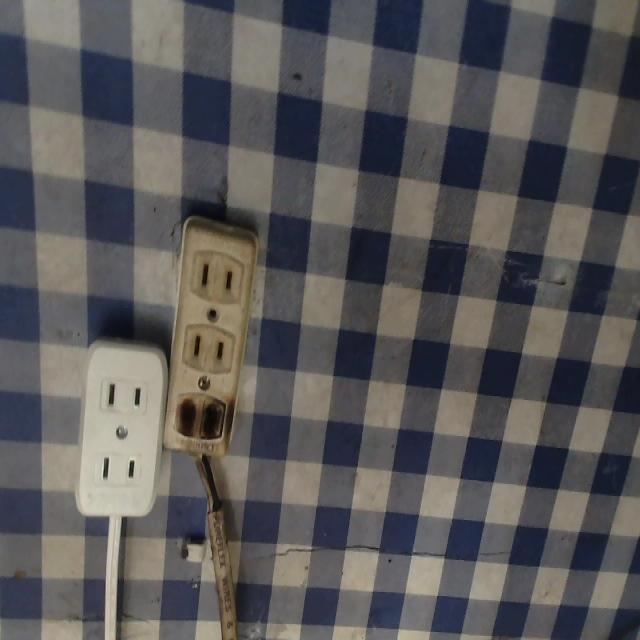-: (170, 386, 235, 446)
